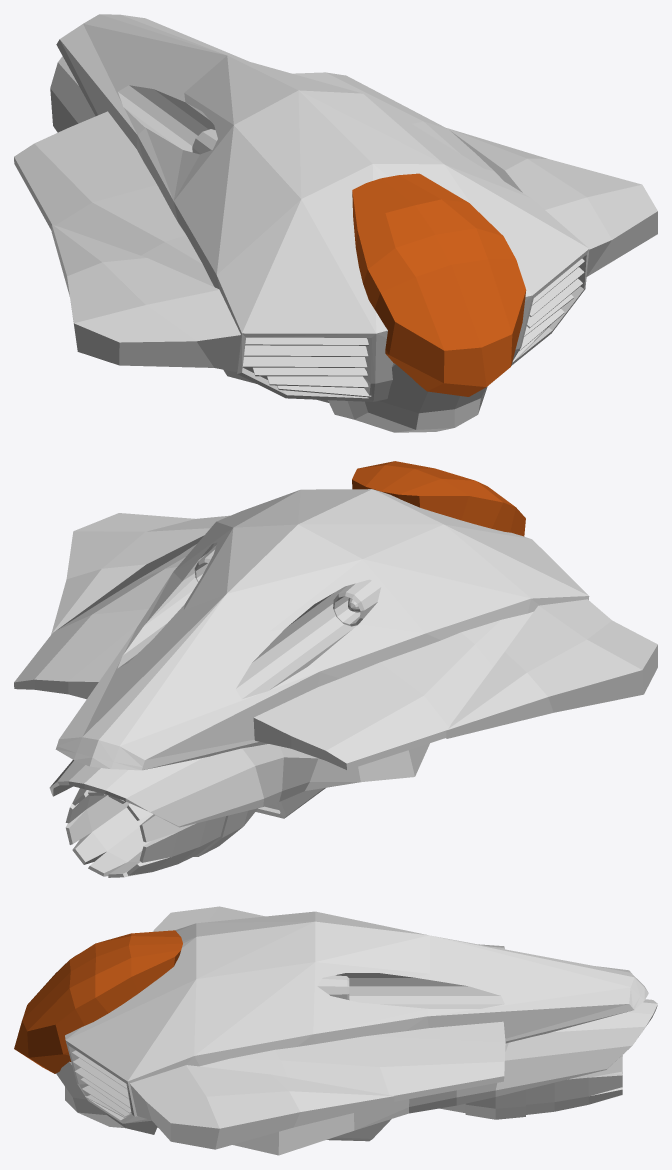
File: Spaceship.FBX
3 renders of one model, top to bottom at view 1: azimuth 30°, elevation 25°; view 2: azimuth 150°, elevation 25°; view 3: azimuth 270°, elevation 25°, orthographic. The views are drawn at different scales.
Parts seen in each view (by area): view 1: Base, Cockpit, Wing002, Elevator002, Wing003, Bay/Aft, Intake, Elevator001, Intake001; view 2: Base, Elevator002, Wing002, Bay/Aft, Wing003, Engine, Elevator001, Cockpit, Turbine, Hold, Ring; view 3: Base, Elevator001, Wing003, Bay/Aft, Cockpit, Engine, Intake001, Wing002, Ring, Turbine001, Hold.
Part boxes in pixels (bbox=[...]): Base: bbox=[56, 14, 589, 401]; Cockpit: bbox=[352, 173, 526, 396]; Wing002: bbox=[51, 224, 240, 371]; Elevator002: bbox=[14, 111, 214, 286]; Wing003: bbox=[447, 128, 657, 276]; Bay/Aft: bbox=[50, 56, 487, 432]; Intake: bbox=[242, 337, 371, 397]; Elevator001: bbox=[293, 72, 503, 180]; Intake001: bbox=[512, 258, 584, 362]; Base: bbox=[55, 489, 589, 770]; Elevator002: bbox=[253, 611, 533, 769]; Wing002: bbox=[446, 599, 657, 738]; Bay/Aft: bbox=[49, 743, 429, 827]; Wing003: bbox=[51, 513, 229, 634]; Engine: bbox=[65, 788, 225, 877]; Elevator001: bbox=[14, 544, 196, 699]; Cockpit: bbox=[352, 461, 525, 536]; Turbine: bbox=[333, 579, 381, 626]; Hold: bbox=[255, 788, 325, 818]; Ring: bbox=[193, 808, 257, 856]; Base: bbox=[65, 911, 648, 1123]; Elevator001: bbox=[200, 1021, 505, 1101]; Wing003: bbox=[129, 1065, 394, 1149]; Bay/Aft: bbox=[56, 999, 657, 1155]; Cockpit: bbox=[14, 930, 182, 1073]; Engine: bbox=[439, 1055, 622, 1114]; Intake001: bbox=[72, 1050, 131, 1117]; Wing002: bbox=[152, 906, 264, 931]; Ring: bbox=[465, 1089, 525, 1119]; Turbine001: bbox=[317, 975, 349, 999]; Hold: bbox=[327, 1119, 391, 1141].
Bounding box in the file's own units: 72.14 × 32.07 × 88.33.
